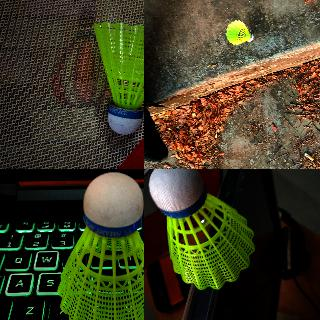shuttlecock: (148, 169, 255, 289), (57, 172, 143, 319), (92, 22, 143, 135), (226, 20, 254, 46)
